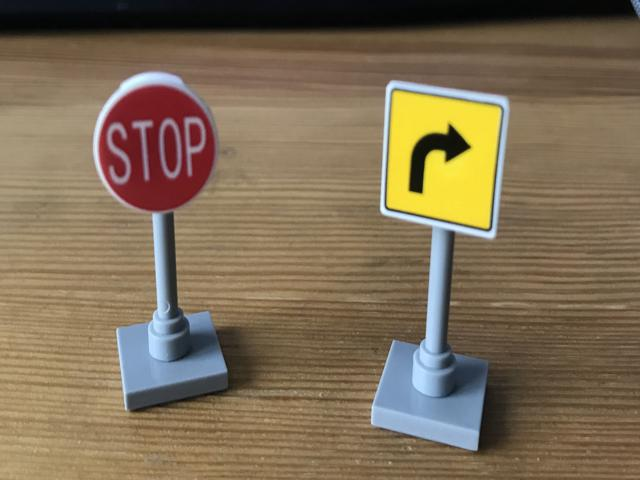fahrtrichtung rechts: (369, 79, 512, 239)
stop: (90, 74, 225, 214)
